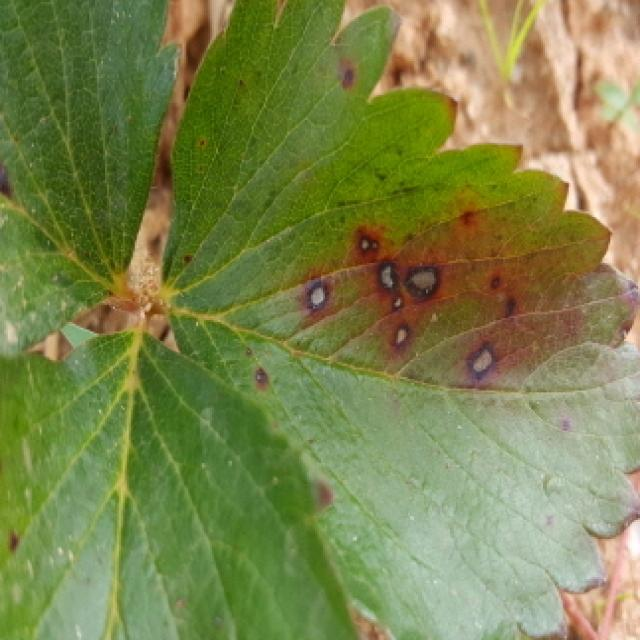Leaf Spot: (158, 0, 640, 640), (0, 328, 360, 640)
